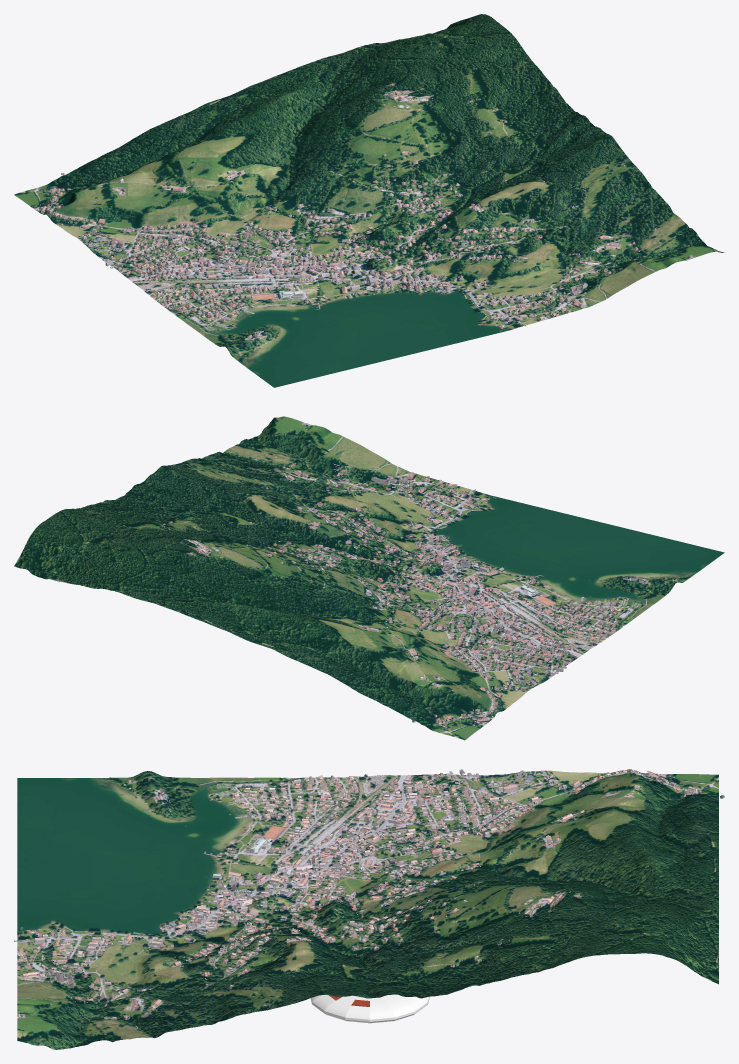
The model's file is asset.glb.
3 views of the same model, one above another, from view 1: azimuth 30°, elevation 25°; view 2: azimuth 150°, elevation 25°; view 3: azimuth 270°, elevation 25° (orthographic). The views are drawn at different scales.
Visible parts, largest first — view 1: Schliersee_DGM_10m, Wand, Dach; view 2: Schliersee_DGM_10m, Dach, Wand; view 3: Schliersee_DGM_10m, Dach, Wand, Ufo361.
Boxes of the visible parts, bbox=[...] form: Schliersee_DGM_10m: bbox=[14, 14, 724, 387]; Wand: bbox=[33, 68, 692, 355]; Dach: bbox=[32, 67, 691, 355]; Schliersee_DGM_10m: bbox=[14, 416, 724, 740]; Dach: bbox=[123, 423, 677, 727]; Wand: bbox=[124, 424, 677, 728]; Schliersee_DGM_10m: bbox=[17, 769, 718, 1049]; Dach: bbox=[14, 769, 724, 1037]; Wand: bbox=[14, 770, 724, 1037]; Ufo361: bbox=[310, 994, 429, 1023].
Bounding box in the file's own units: 2005 × 649 × 2016.
7 materials, 3 textured.
